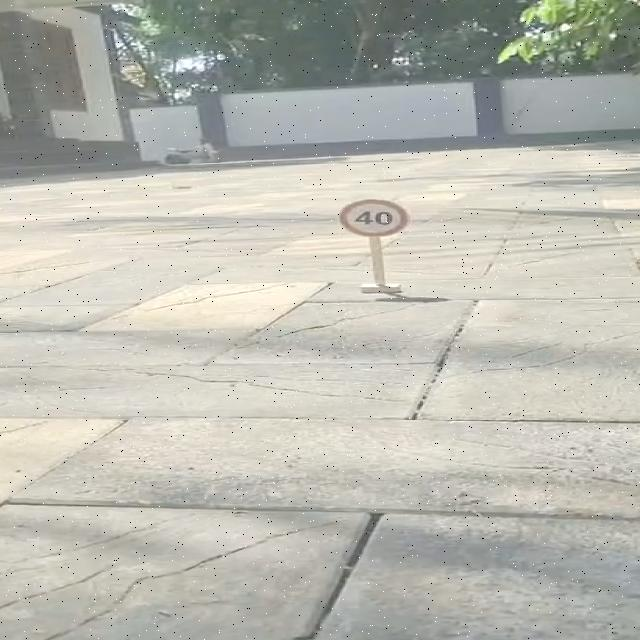Speed40: (336, 196, 414, 238)
